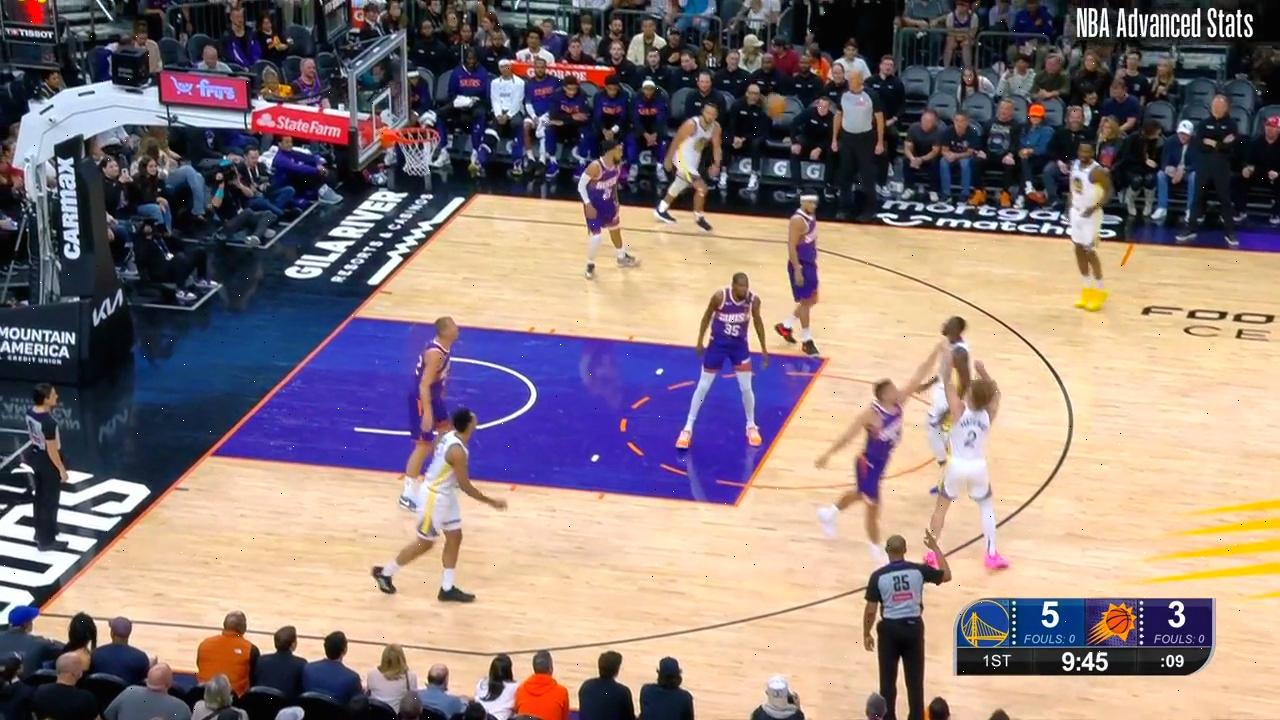basketball: (764, 95, 790, 119)
